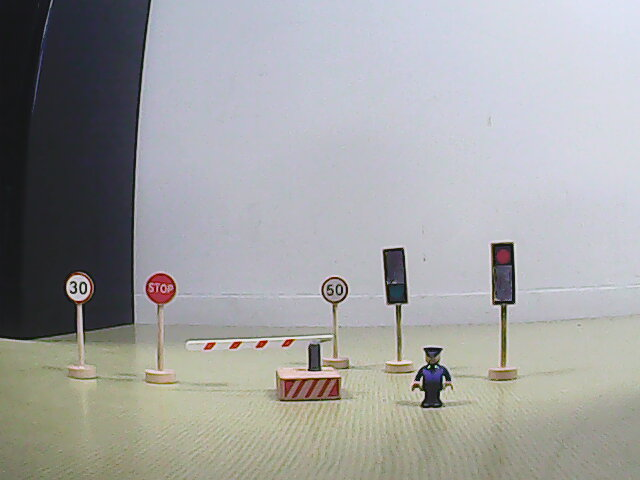barrier: (184, 331, 343, 402)
green_traffic_sign: (381, 247, 408, 305)
person: (410, 346, 455, 409)
red_traffic_sign: (492, 244, 514, 306)
sign_30: (64, 271, 94, 304)
sign_50: (321, 275, 349, 305)
stop_sign: (143, 272, 178, 305)
